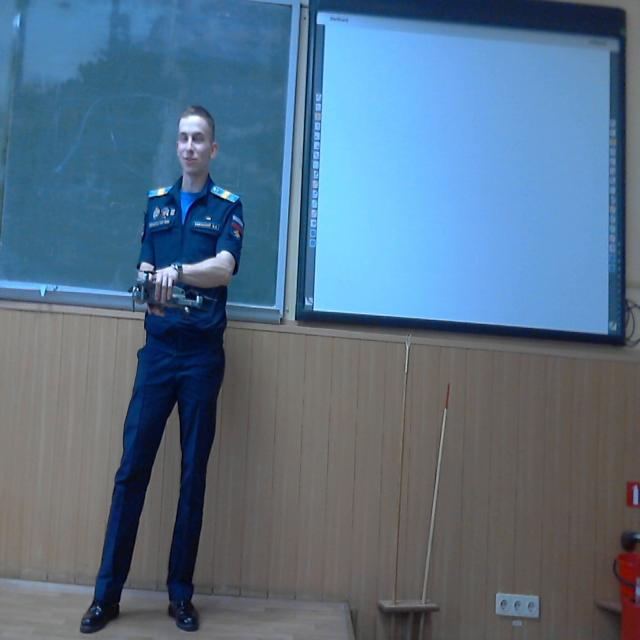drone: (108, 241, 230, 324)
